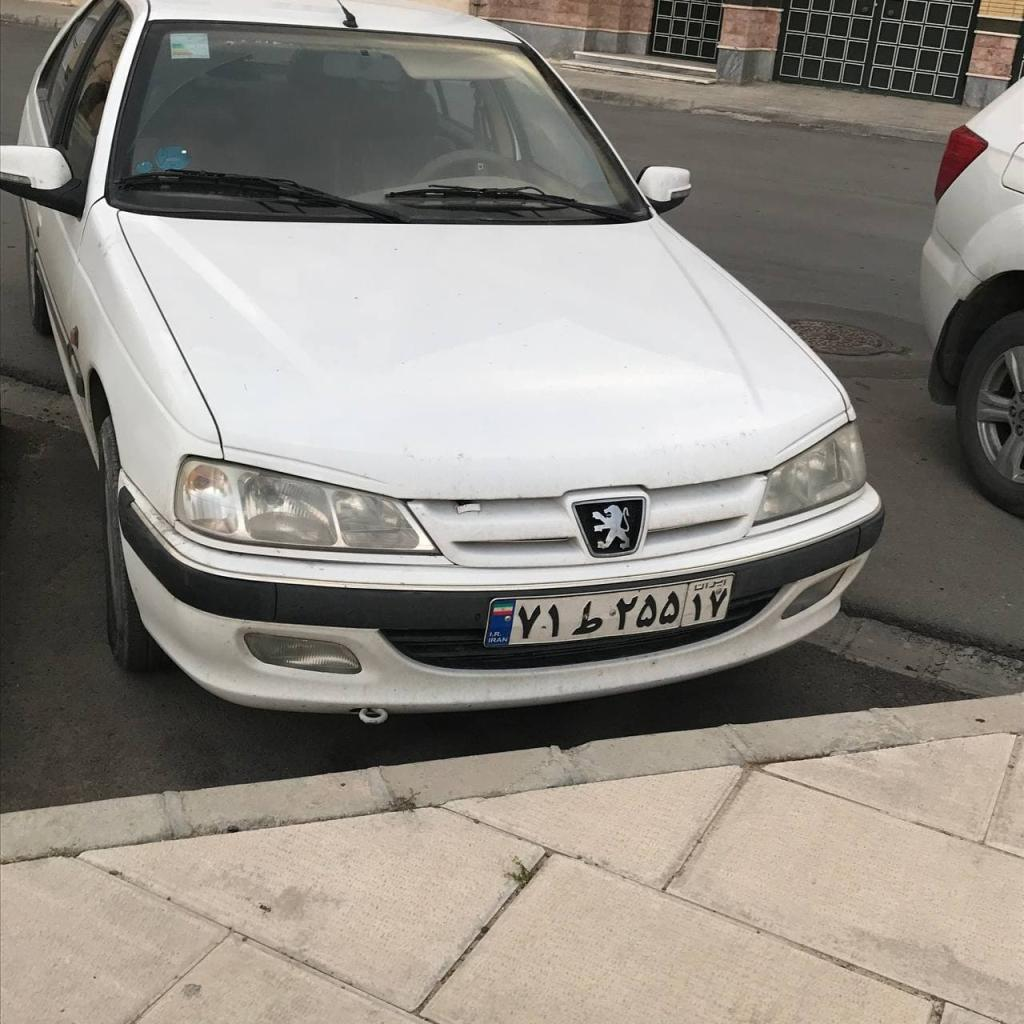Plates: (484, 574, 733, 651)
